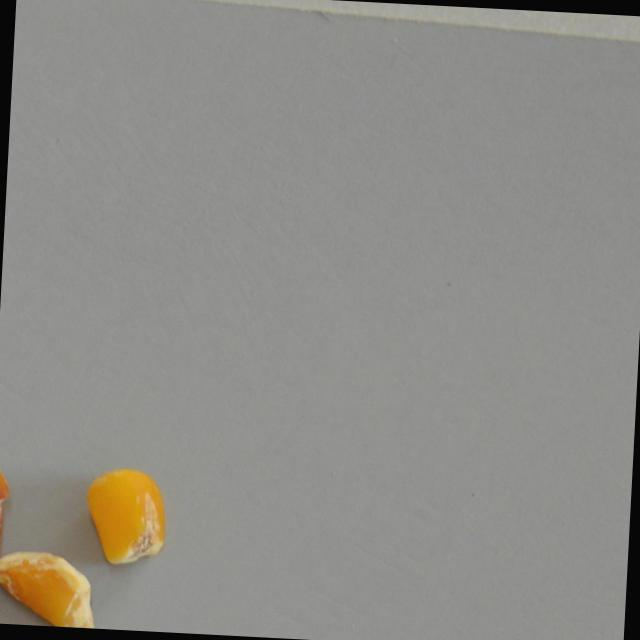dañado: (82, 464, 168, 567), (0, 546, 103, 629), (0, 464, 9, 581)
